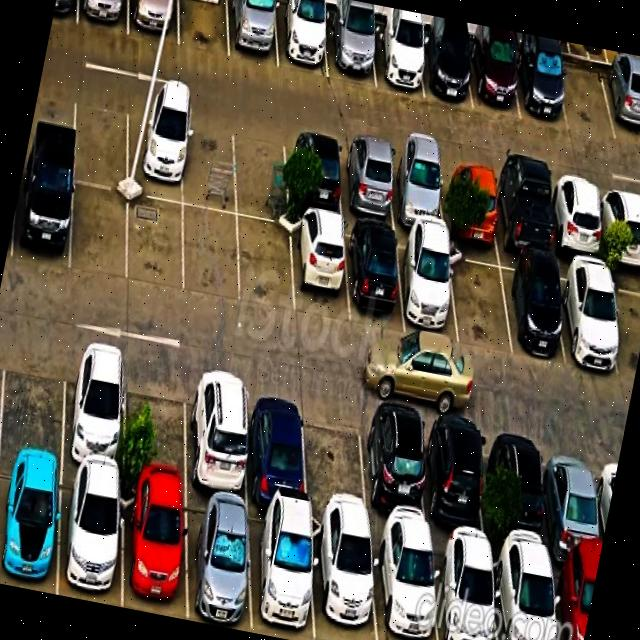empty: (0, 353, 74, 476), (115, 384, 194, 498), (292, 422, 374, 530), (443, 256, 519, 354), (178, 112, 245, 214), (119, 191, 190, 287), (64, 188, 136, 281), (232, 122, 300, 218), (64, 100, 134, 190), (228, 215, 296, 306), (176, 204, 244, 291), (554, 42, 618, 132), (171, 0, 237, 58)
occupied: (176, 508, 262, 630), (109, 494, 194, 617), (169, 398, 255, 515), (241, 518, 322, 640), (48, 486, 128, 605), (351, 422, 432, 537), (52, 376, 134, 488), (304, 534, 388, 640), (237, 414, 312, 530), (477, 436, 551, 552), (413, 432, 488, 544), (558, 269, 632, 382), (534, 456, 609, 564), (0, 472, 67, 592), (366, 542, 447, 640), (394, 238, 467, 344), (502, 260, 574, 366), (119, 97, 194, 196), (438, 151, 506, 255), (492, 168, 560, 272), (343, 225, 410, 329), (282, 219, 354, 315), (430, 552, 507, 640), (276, 128, 348, 222), (542, 180, 608, 282), (486, 563, 571, 640), (10, 175, 79, 268), (383, 148, 448, 240), (416, 15, 480, 106), (370, 7, 430, 96), (514, 34, 573, 124), (337, 140, 398, 227), (466, 26, 526, 114), (591, 186, 640, 289), (323, 0, 383, 82), (273, 0, 334, 73), (222, 0, 286, 69), (599, 51, 640, 133), (124, 0, 183, 39), (76, 0, 132, 30)
